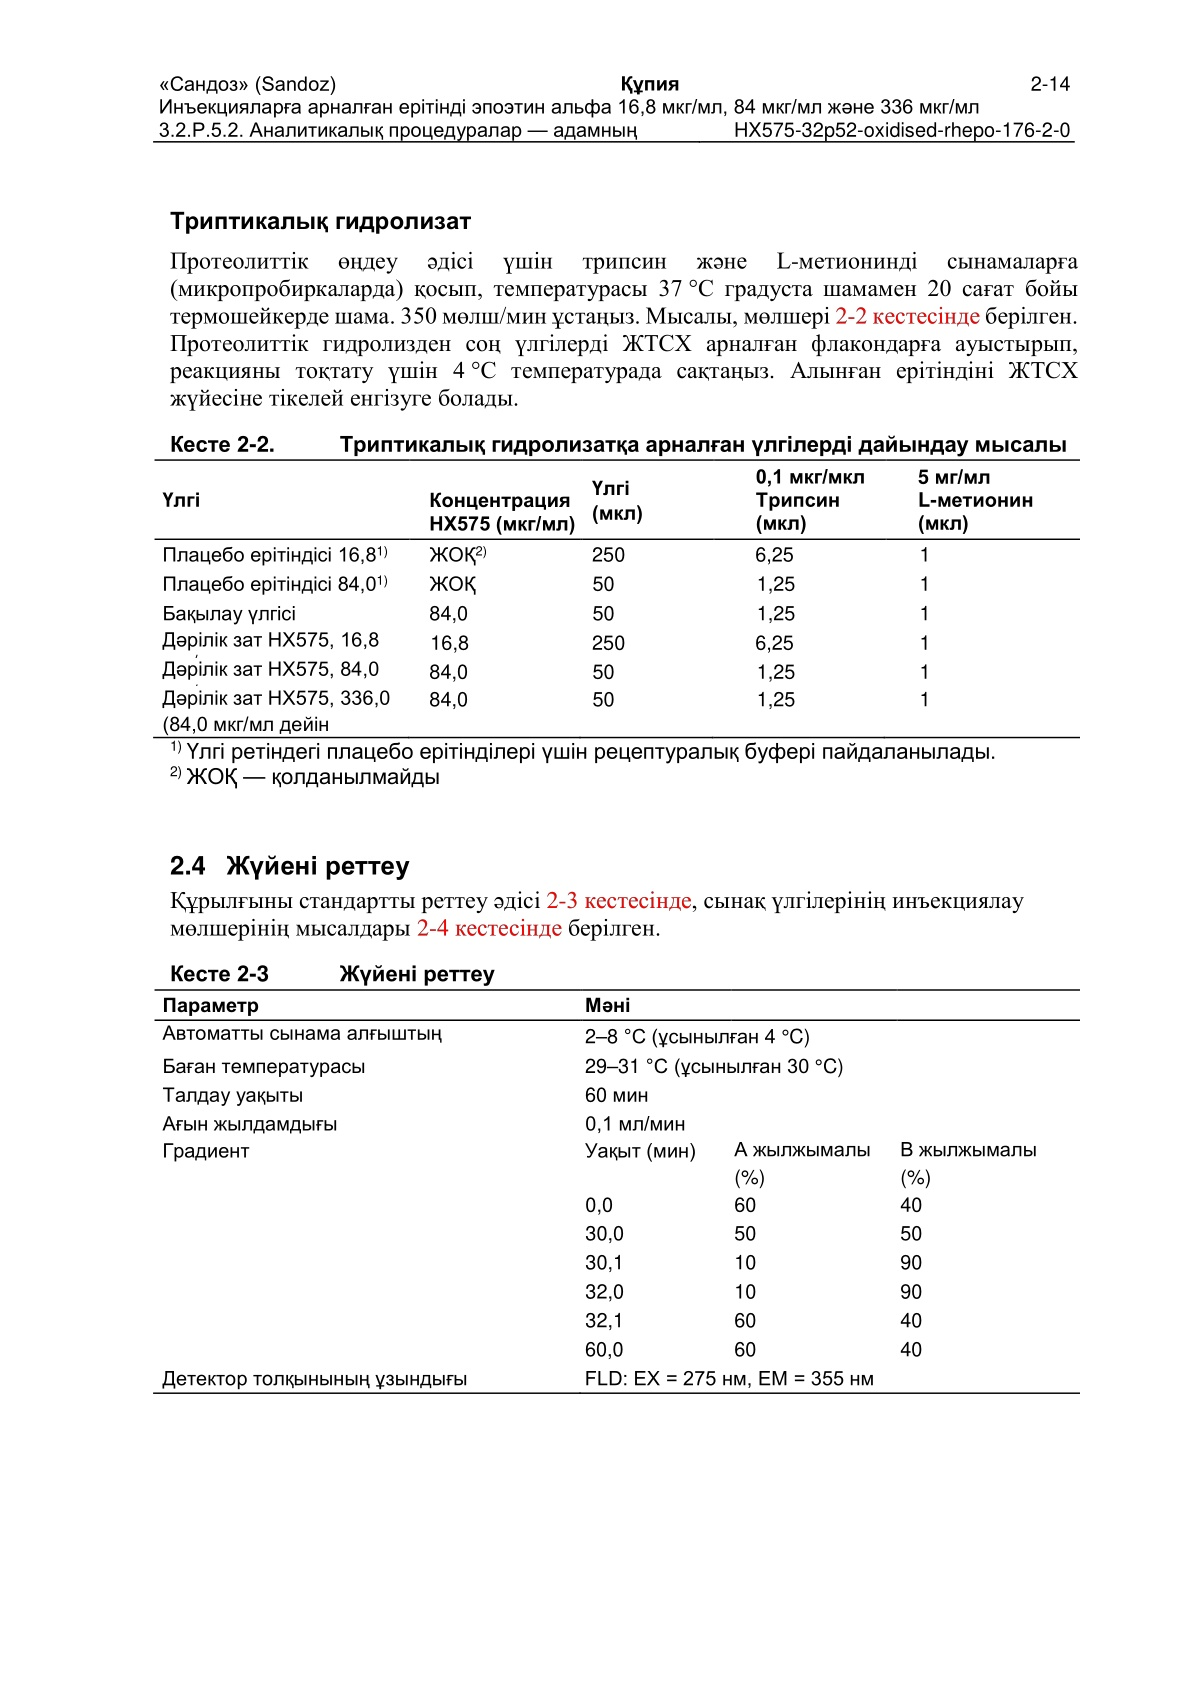partial_lined: (151, 457, 1081, 738)
partial_lined_merged_cells: (153, 987, 1079, 1394)
